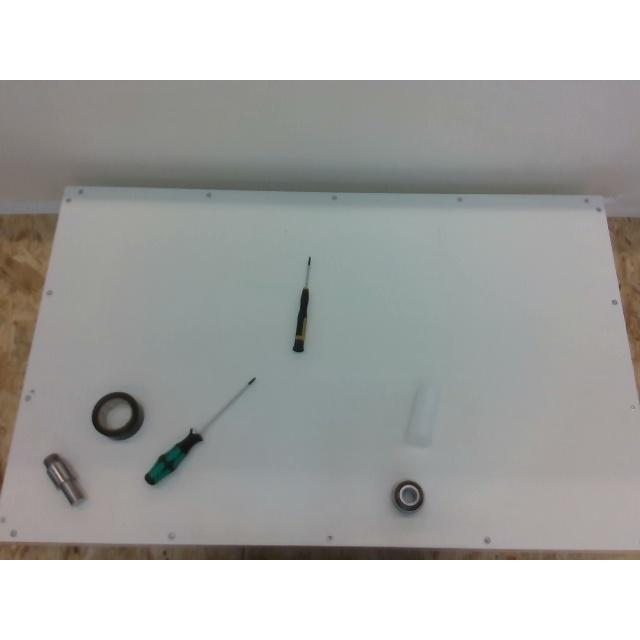Axis2: (43, 453, 85, 505)
Bearing2: (392, 479, 424, 511)
Screwdriver: (144, 377, 256, 485)
Spacer: (404, 378, 441, 446)
